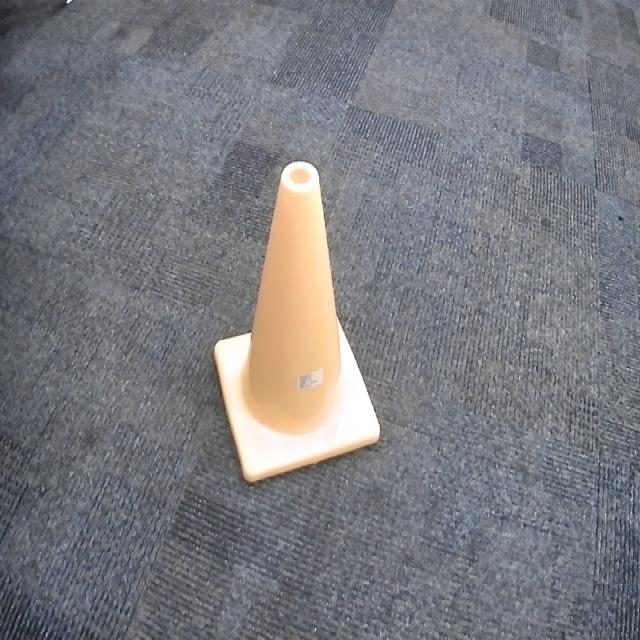cone: (212, 158, 382, 487)
